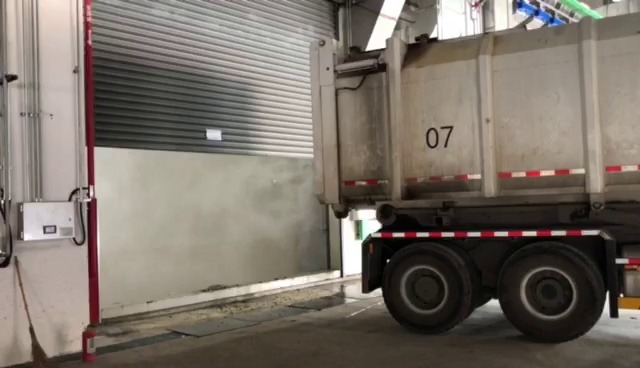dust: (100, 161, 310, 281)
truck: (300, 5, 640, 343)
